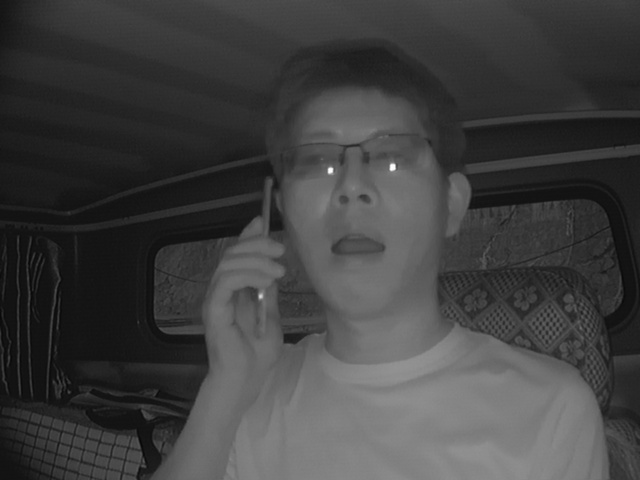hand: (195, 219, 290, 368)
